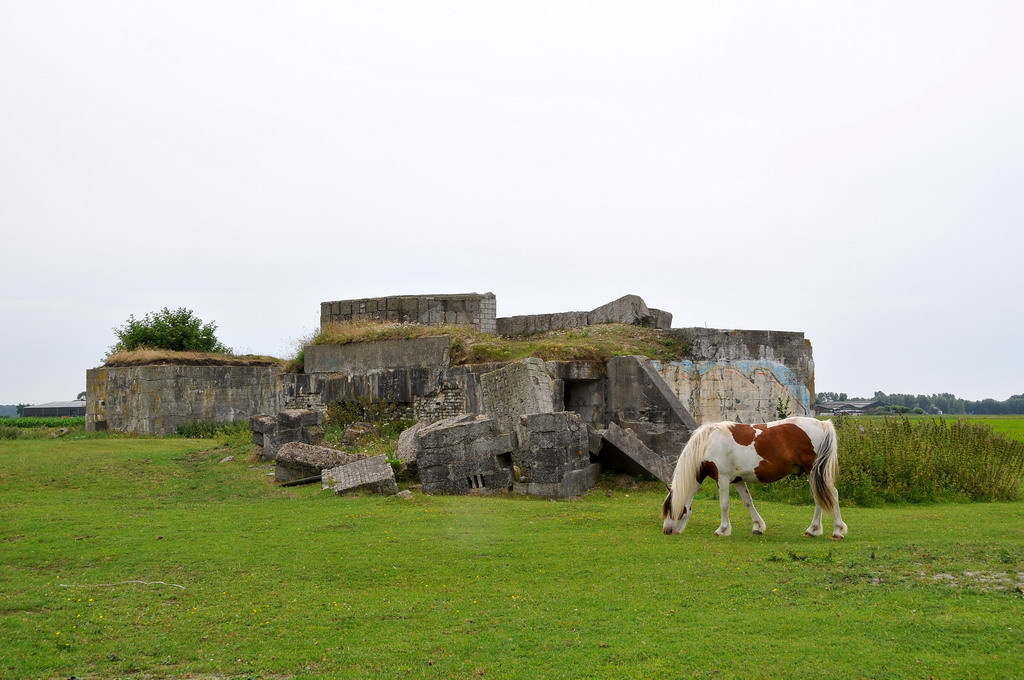horse: (659, 414, 849, 542)
